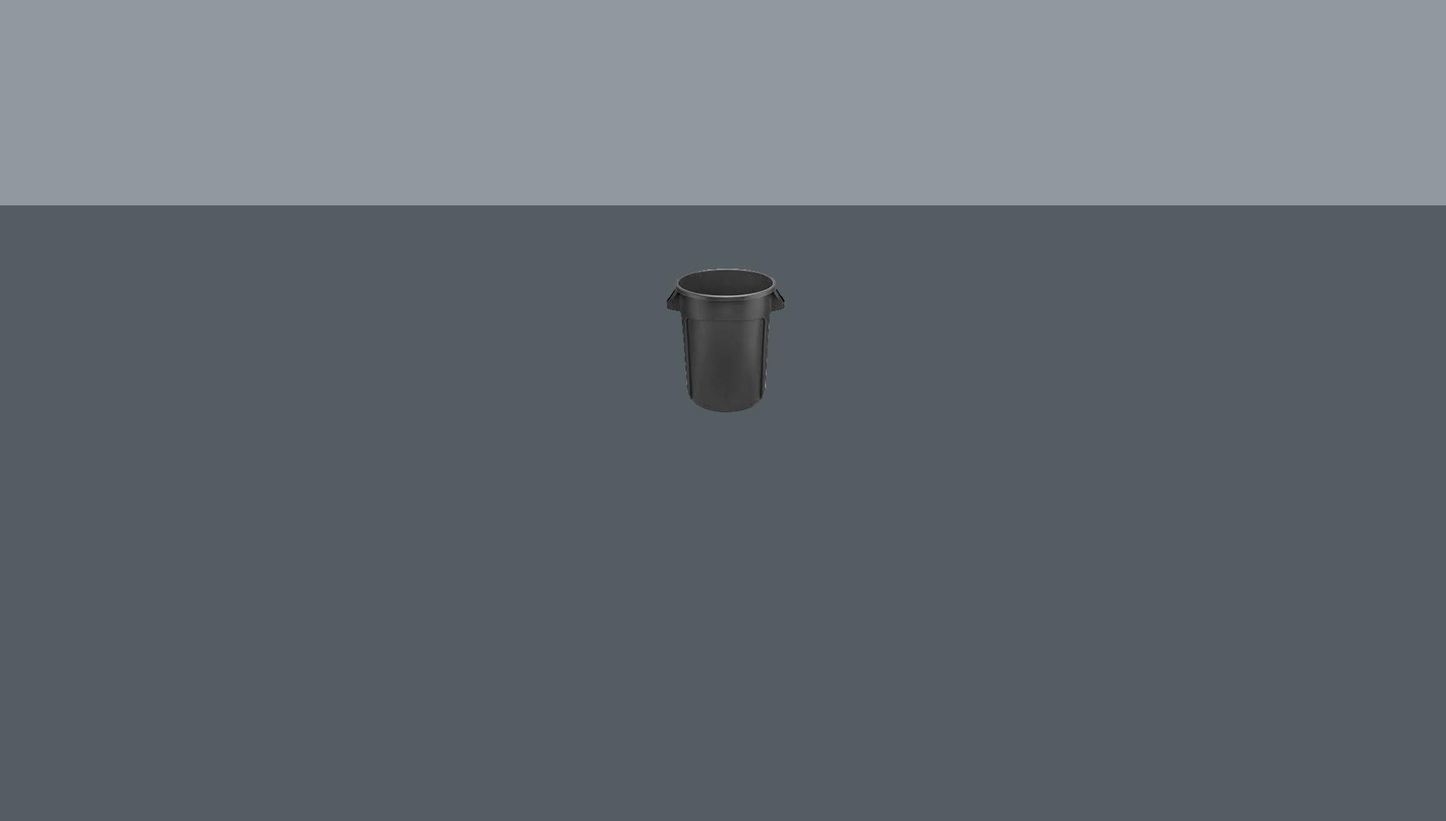garbage container: (664, 266, 788, 415)
